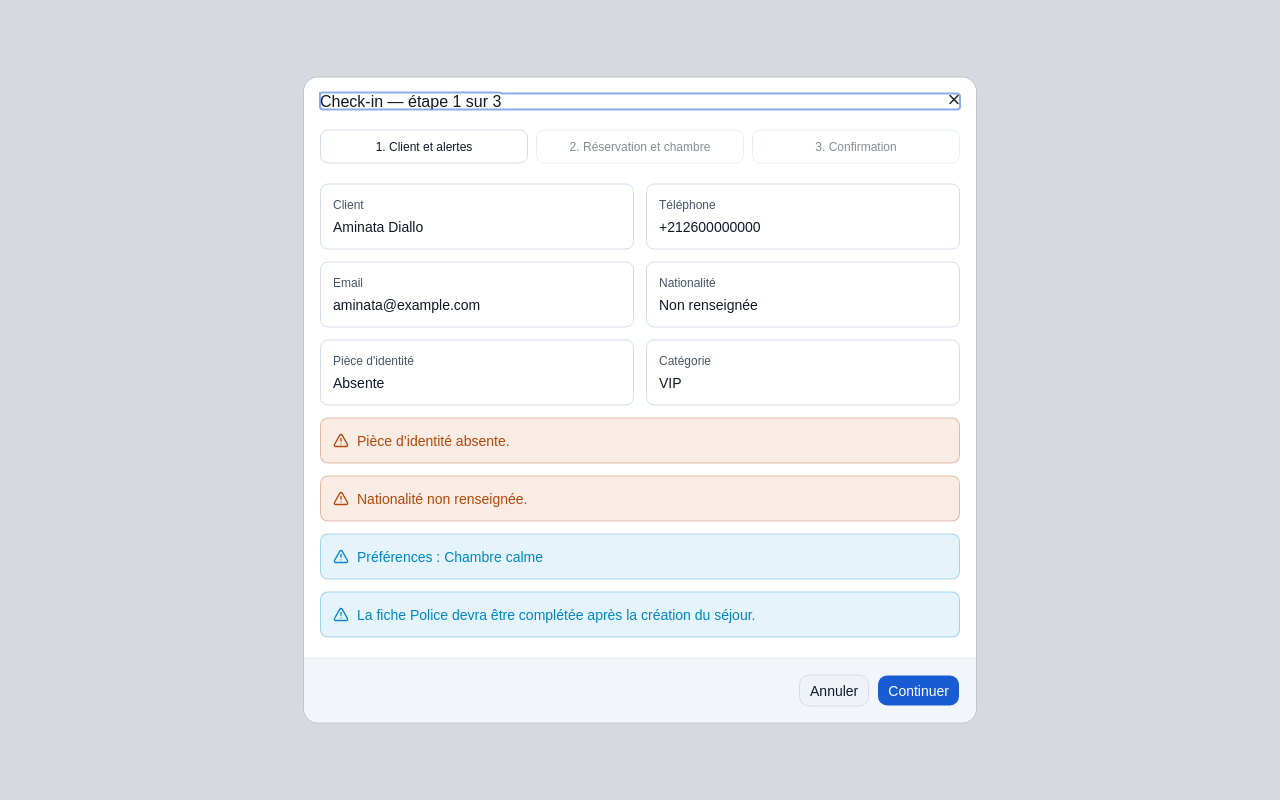
Test case: ReservationCheckinDialog › conserve le dialogue et permet de relancer une disponibilité en erreur
The width and height of the screenshot is (1280, 800).
Click the button "Continuer": [919, 690] box [877, 674, 960, 706]
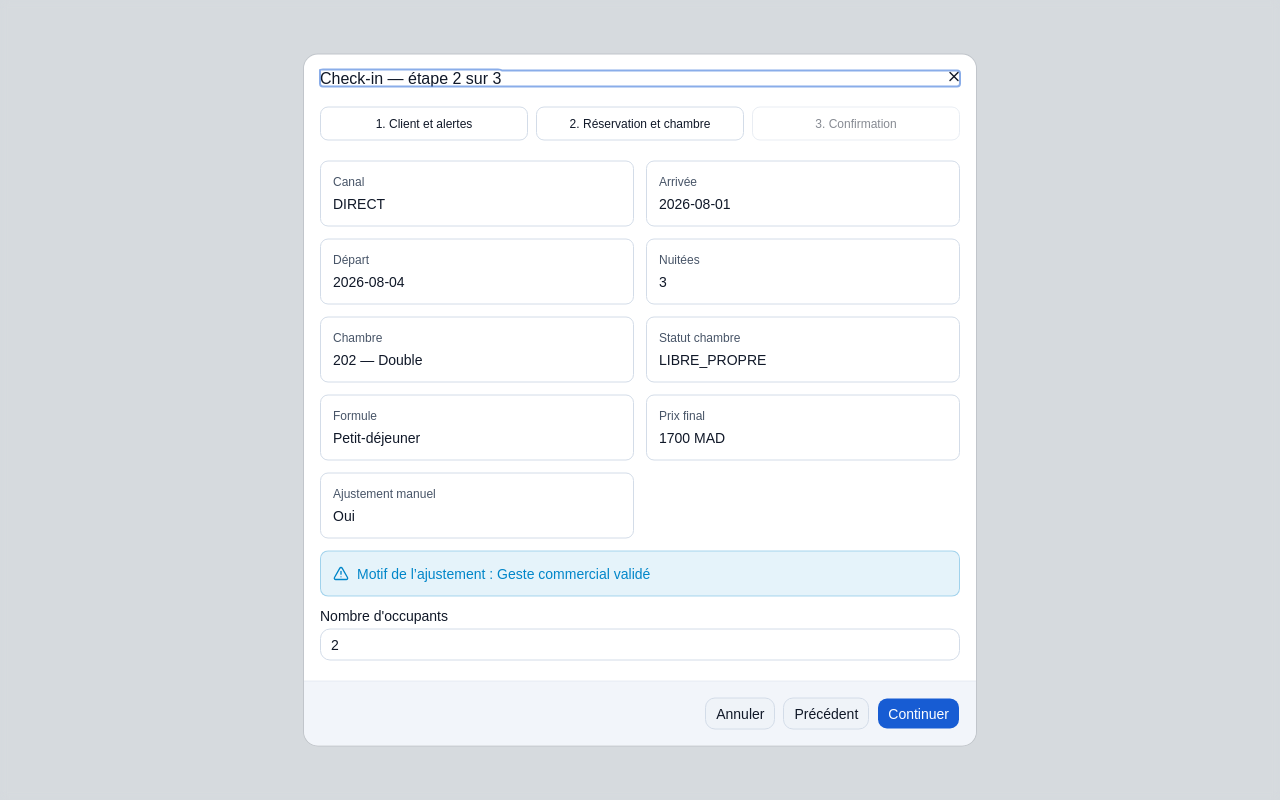
Click the button "Continuer": [919, 714] box [877, 698, 960, 730]
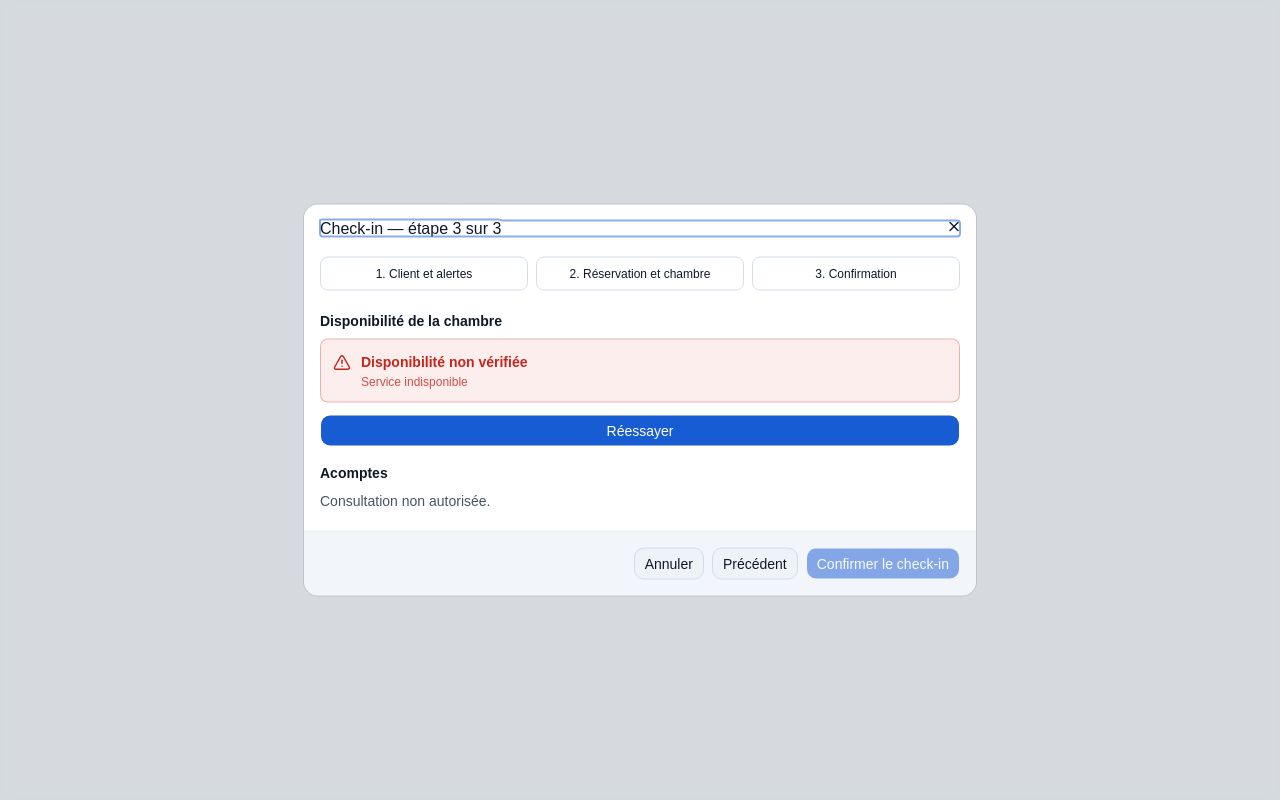
Expected: the text "Disponibilité non vérifiée" is shown, [361, 352, 528, 372]
Click the button "Réessayer": [640, 430] box [320, 414, 960, 446]
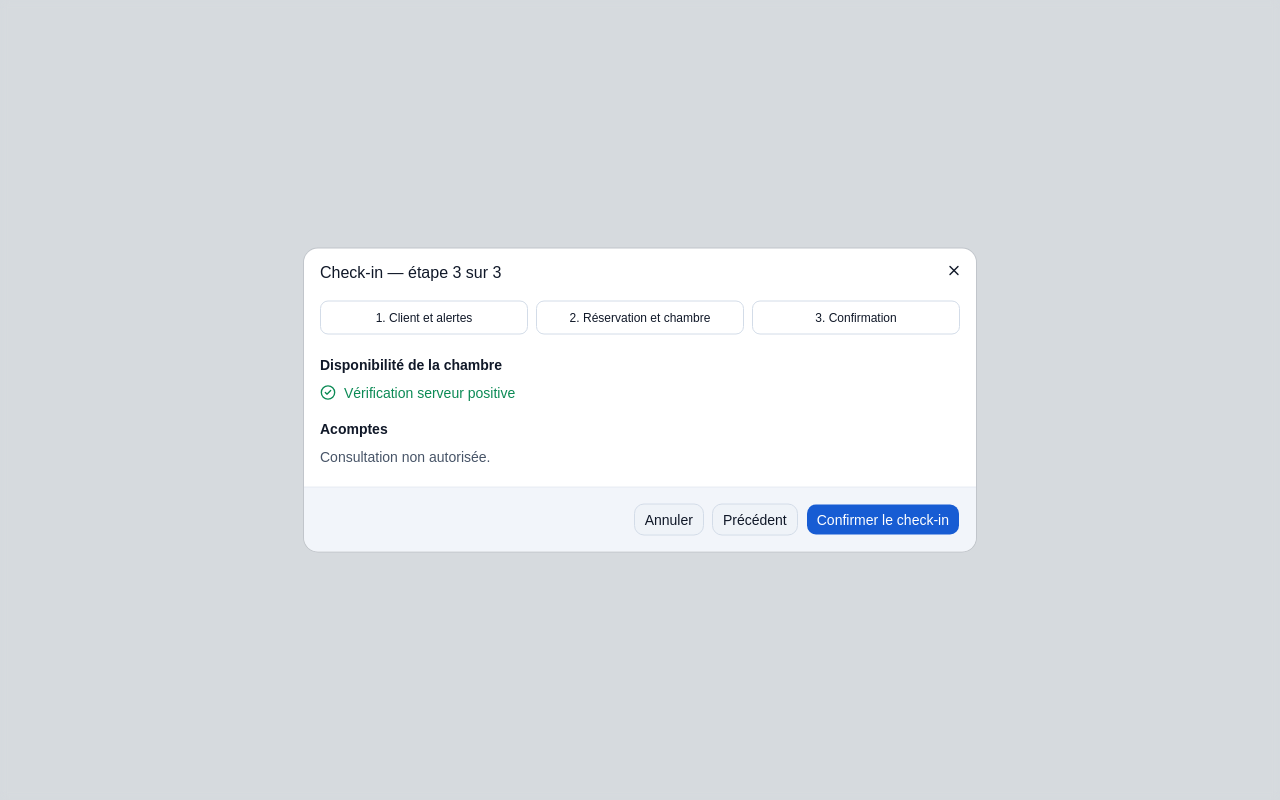
Expected: the text "Vérification serveur positive" is shown, [320, 384, 515, 400]
